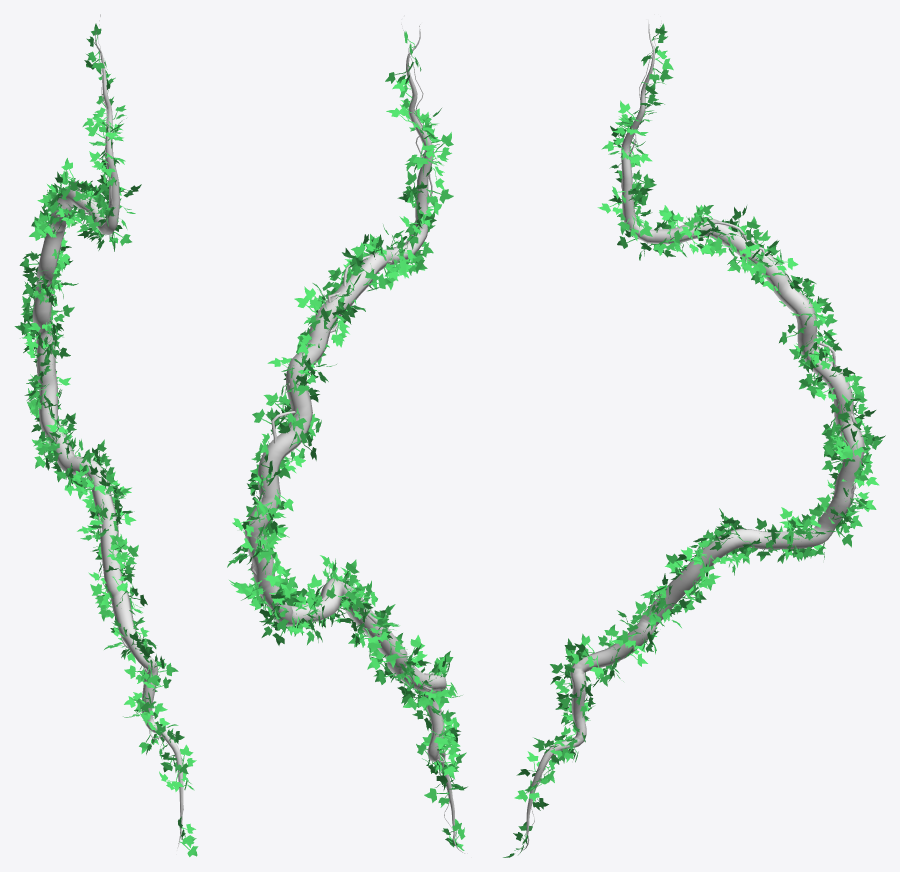
Rendered from VineDeco6.fbx.
3 renders of one model, left to right at view 1: azimuth 30°, elevation 25°; view 2: azimuth 150°, elevation 25°; view 3: azimuth 270°, elevation 25°, orthographic. The views are drawn at different scales.
Visible parts, largest first — view 1: BézierCurve.018; view 2: BézierCurve.018; view 3: BézierCurve.018.
Boxes of the visible parts, x1,y1,x2,y2 form: BézierCurve.018: (14,14,198,856); BézierCurve.018: (227,24,467,853); BézierCurve.018: (503,16,885,857).
Bounding box in the file's own units: 212 × 1854 × 773.
